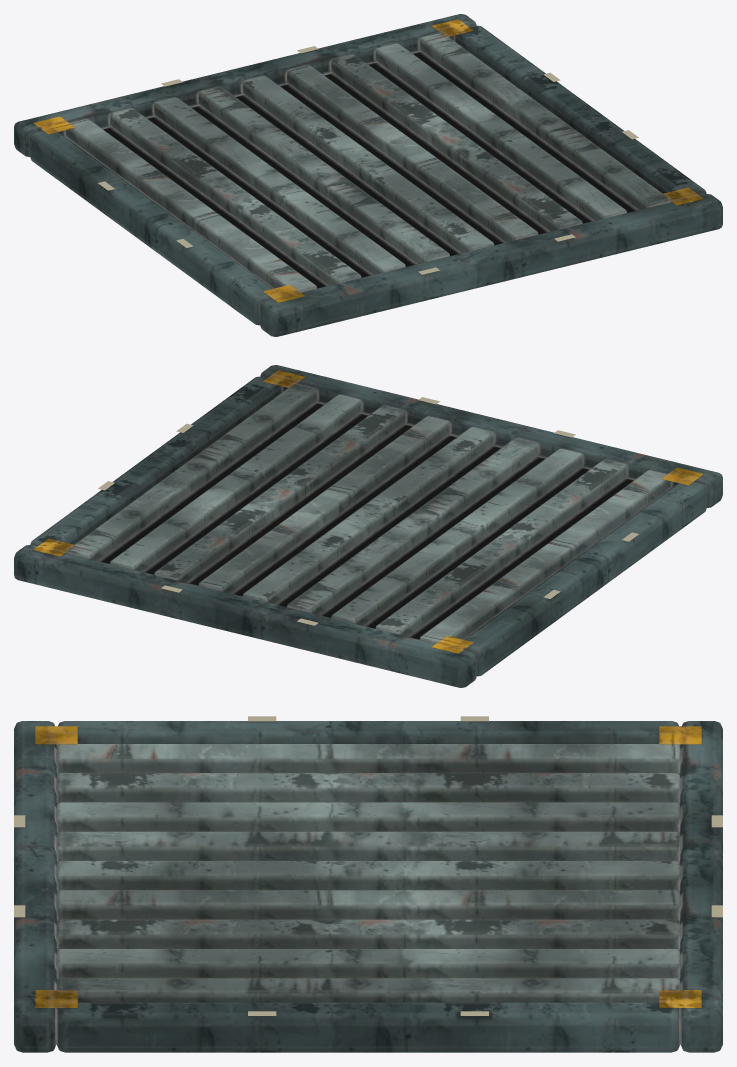
Rendered from hull_platform_outdoor.glb.
The picture shows the model from 3 angles, top to bottom: view 1: azimuth 30°, elevation 25°; view 2: azimuth 150°, elevation 25°; view 3: azimuth 270°, elevation 25°; orthographic projection. The views are drawn at different scales.
Parts seen in each view (by area): view 1: te_hull_platform_outdoor; view 2: te_hull_platform_outdoor; view 3: te_hull_platform_outdoor.
Boxes of the visible parts, bbox=[...] form: te_hull_platform_outdoor: bbox=[14, 14, 722, 336]; te_hull_platform_outdoor: bbox=[14, 365, 722, 687]; te_hull_platform_outdoor: bbox=[14, 716, 722, 1052].
Bounding box in the file's own units: 1 × 0.0618 × 1.
1 material, 1 textured.
